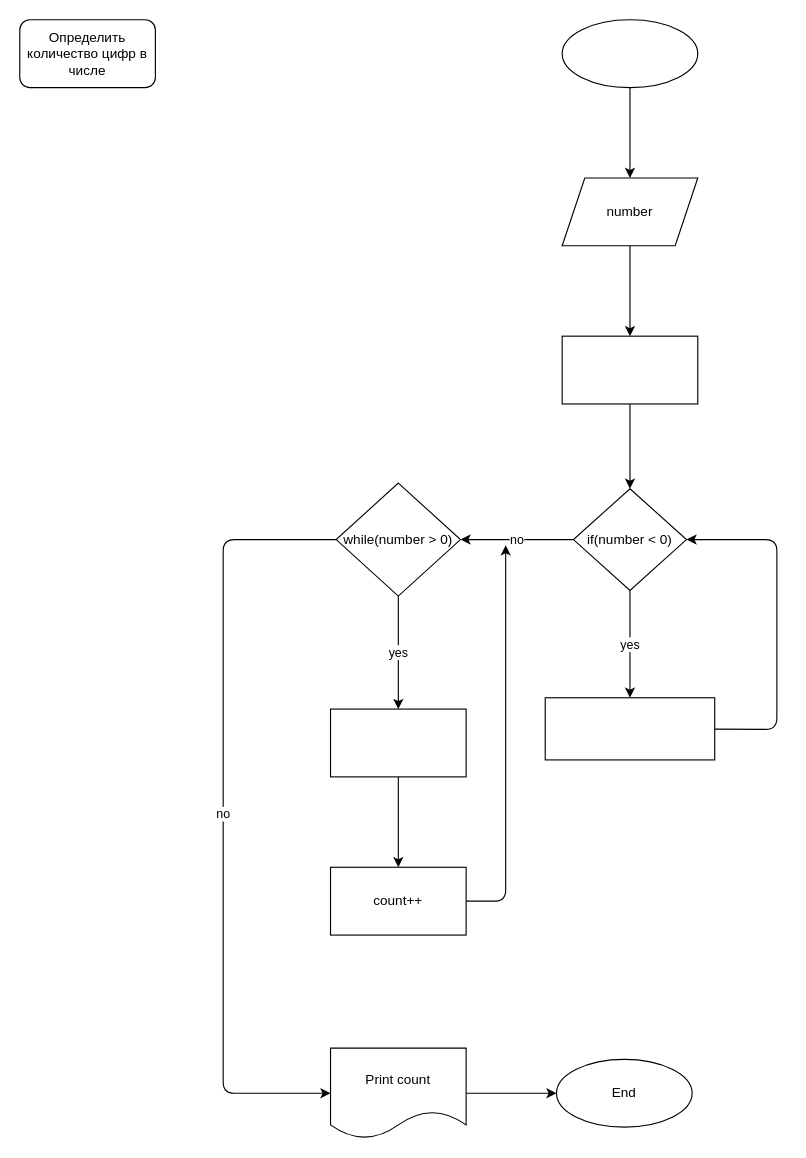
The diagram is 806 pixels wide and 1158 high, and some of its shapes have lost their labels. The shapes that lost their labels are listed below. From the top down, each one's centre as x and y in pixels, then its label:
point (629, 53): Start
point (629, 369): count = 0;
point (397, 742): number /=10
point (629, 728): number = number * -1;
